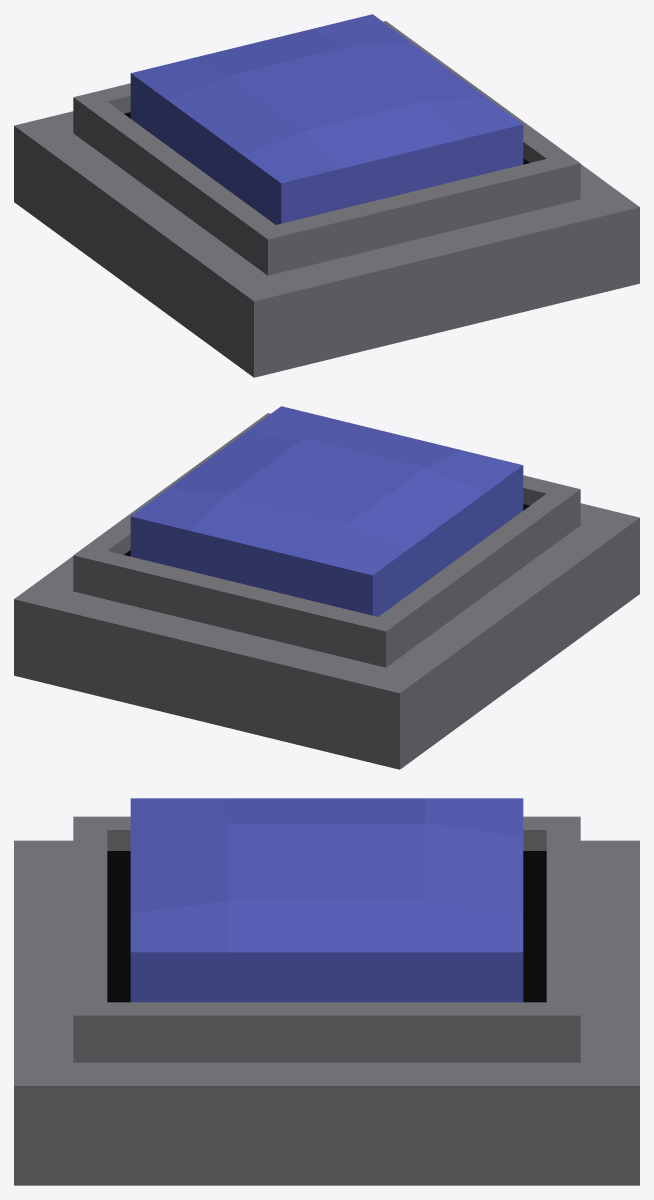
The model's file is teste_botão_quadrado_anim1.fbx.
The picture shows the model from 3 angles, top to bottom: view 1: azimuth 30°, elevation 25°; view 2: azimuth 150°, elevation 25°; view 3: azimuth 270°, elevation 25°; orthographic projection. The views are drawn at different scales.
Visible parts, largest first — view 1: pCube1; view 2: pCube1; view 3: pCube1.
Part boxes in pixels (<box>): pCube1: <box>14,14,639,377</box>; pCube1: <box>14,406,639,769</box>; pCube1: <box>14,798,639,1185</box>.
Bounding box in the file's own units: 5.68 × 2.17 × 6.12.
